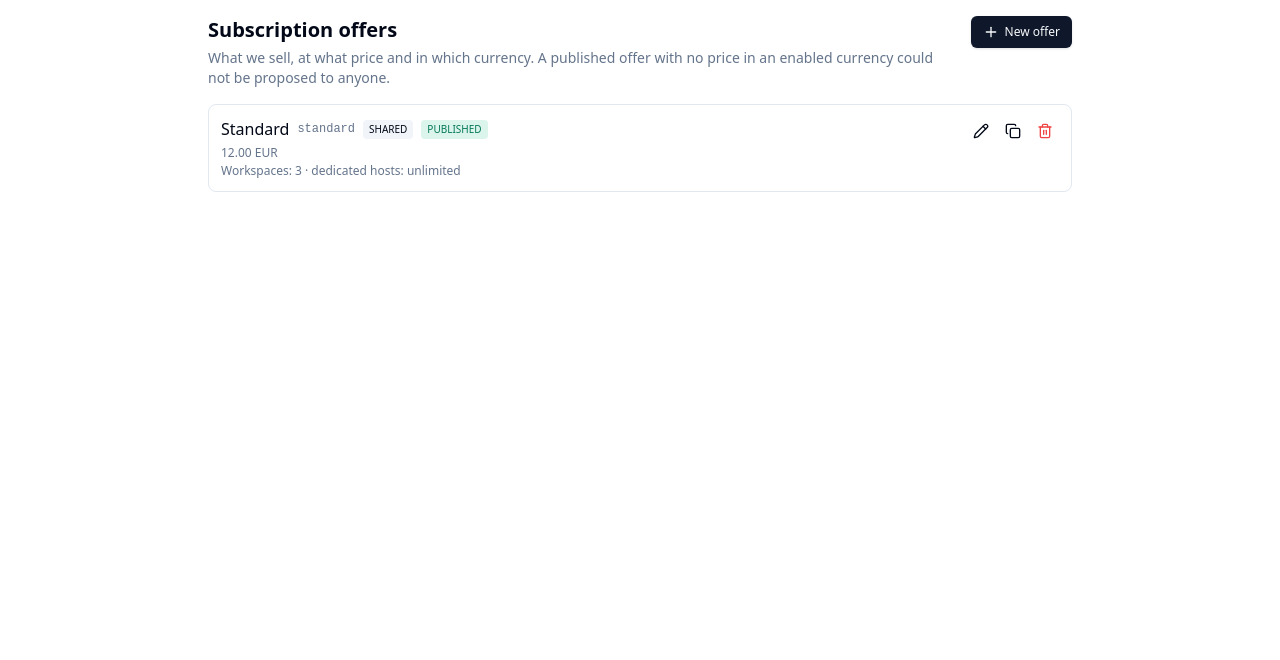
AdminBillingOffers › part de l'anglais et ajoute les autres langues a la demande
Click the button named "Edit offer": (981, 131) [967, 117, 995, 145]
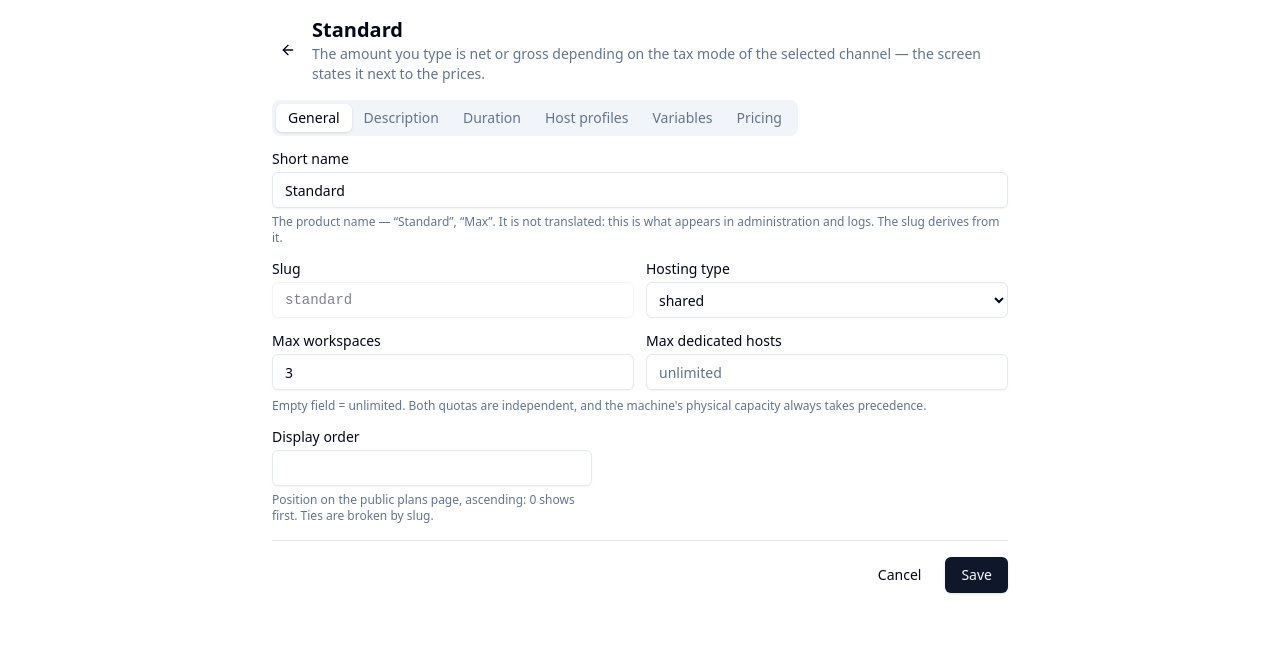
Click the tab "Description": (401, 118) [352, 104, 451, 132]
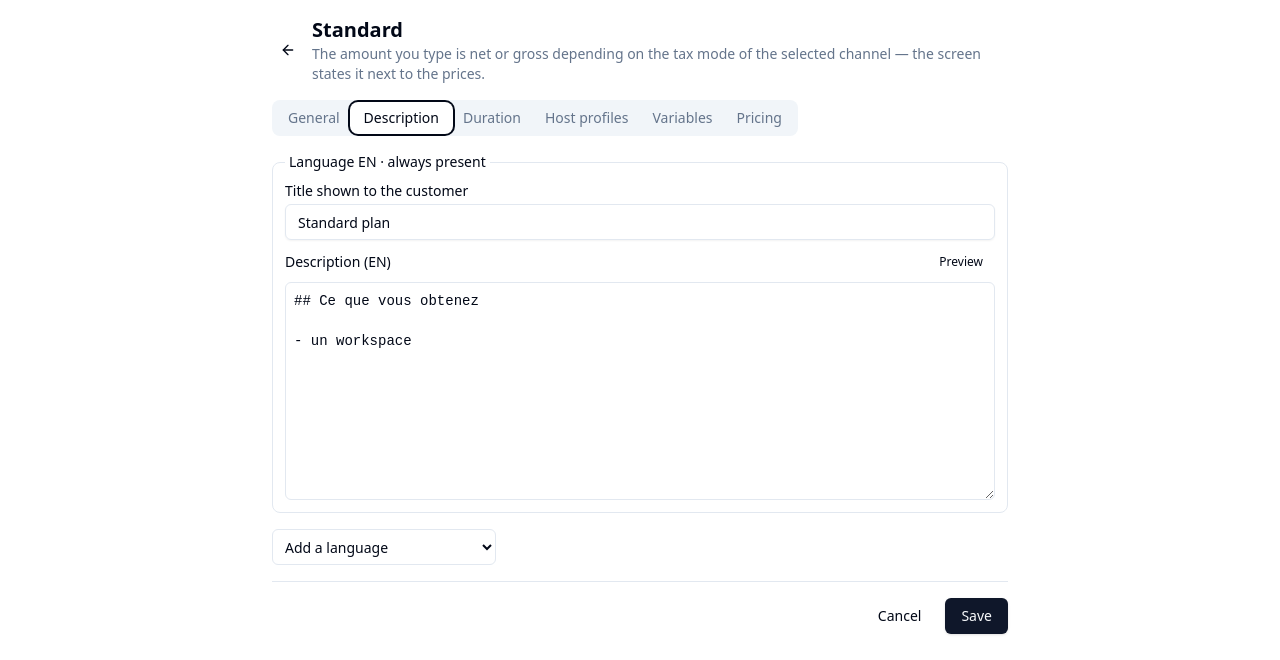
Check: the text "Language FR" is not shown
Check: the field labelled "Title shown to the customer" is shown, box [285, 204, 995, 240]
Select "FR" in the dropdown named "Add a language": (384, 547) [272, 529, 496, 565]
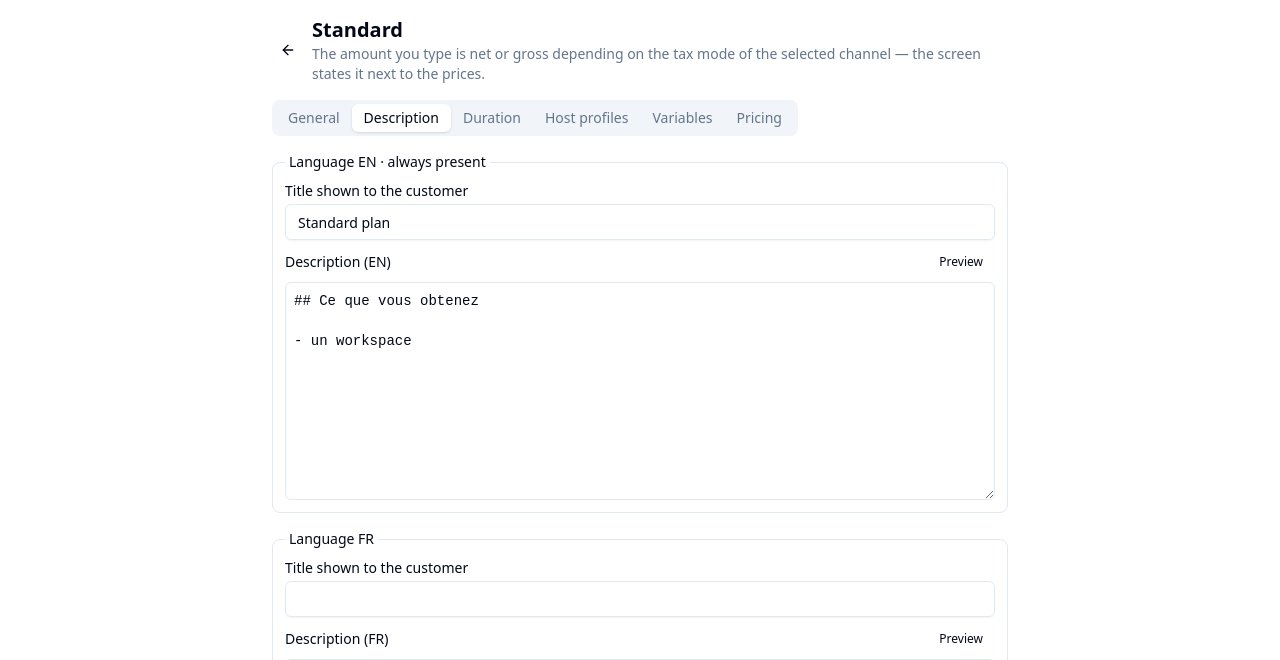
Check: the text "Language FR" is shown, box [285, 529, 378, 549]
